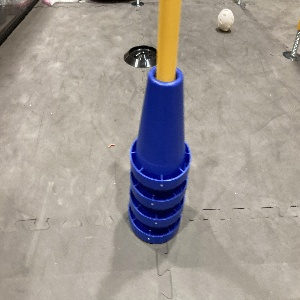Blue_4: (129, 64, 191, 242)
